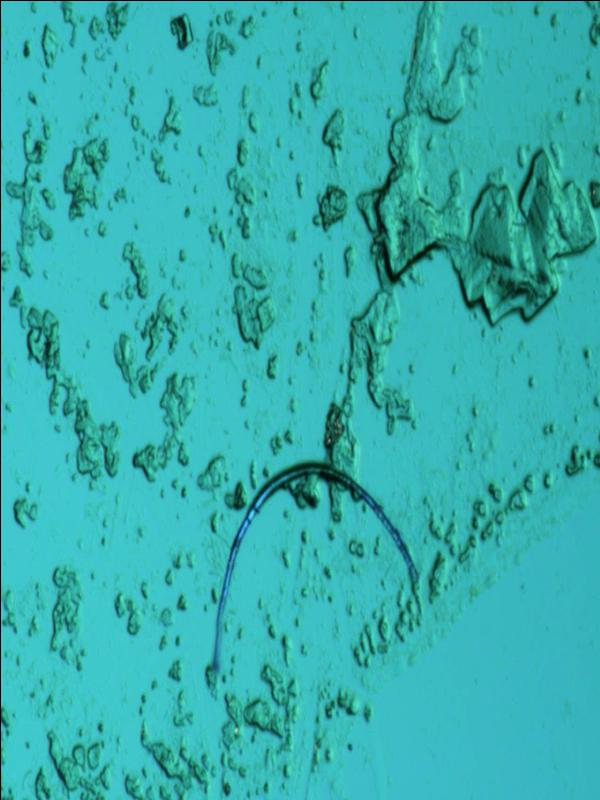microplastic: (1, 3, 598, 799)
